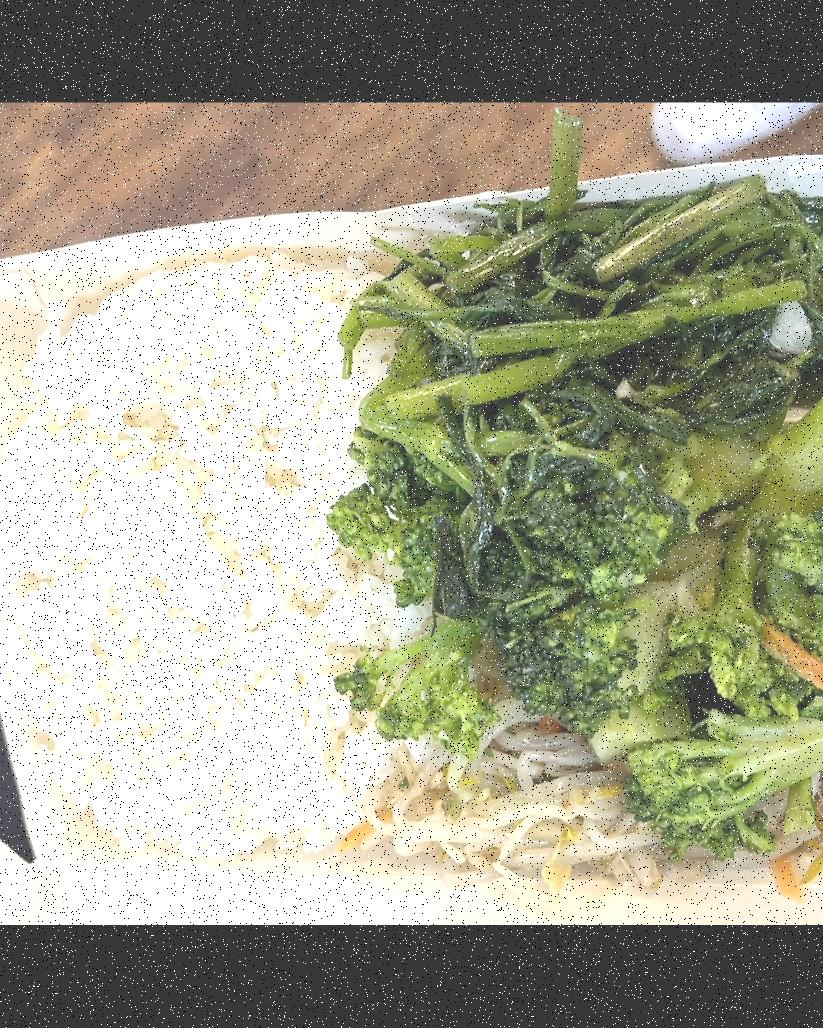big grilled chicken leg: (0, 148, 823, 912)
big herbal chicken leg: (0, 245, 423, 866)
braised fish fillet: (335, 423, 823, 840), (334, 168, 823, 480), (371, 727, 636, 880)
